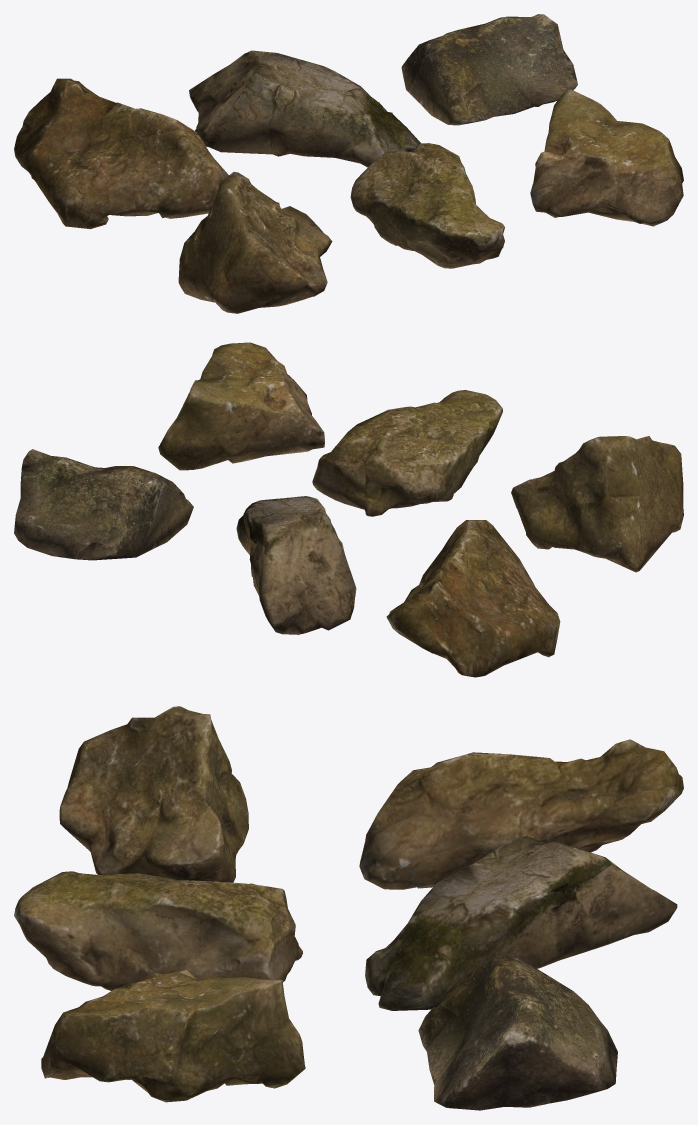
Rendered from rock_b.glb.
3 views of the same model, one above another, from view 1: azimuth 30°, elevation 25°; view 2: azimuth 150°, elevation 25°; view 3: azimuth 270°, elevation 25° (orthographic). The views are drawn at different scales.
Parts seen in each view (by area): view 1: rock_moss_set_01_rock01, rock_moss_set_01_rock02, rock_moss_set_01_rock06, rock_moss_set_01_rock04, rock_moss_set_01_rock03, rock_moss_set_01_rock05; view 2: rock_moss_set_01_rock04, rock_moss_set_01_rock01, rock_moss_set_01_rock05, rock_moss_set_01_rock03, rock_moss_set_01_rock06, rock_moss_set_01_rock02; view 3: rock_moss_set_01_rock01, rock_moss_set_01_rock02, rock_moss_set_01_rock05, rock_moss_set_01_rock04, rock_moss_set_01_rock06, rock_moss_set_01_rock03.
Boxes of the visible parts, x1,y1,x2,y2 form: rock_moss_set_01_rock01: (14,78,228,229); rock_moss_set_01_rock02: (189,50,420,167); rock_moss_set_01_rock06: (530,88,683,226); rock_moss_set_01_rock04: (178,171,332,313); rock_moss_set_01_rock03: (401,14,577,125); rock_moss_set_01_rock05: (350,143,504,268); rock_moss_set_01_rock04: (511,436,683,572); rock_moss_set_01_rock01: (386,520,560,677); rock_moss_set_01_rock05: (312,390,502,516); rock_moss_set_01_rock03: (14,449,193,560); rock_moss_set_01_rock06: (158,342,324,470); rock_moss_set_01_rock02: (236,496,356,634); rock_moss_set_01_rock01: (359,739,683,889); rock_moss_set_01_rock02: (365,836,677,1010); rock_moss_set_01_rock05: (14,871,302,990); rock_moss_set_01_rock04: (59,706,248,882); rock_moss_set_01_rock06: (41,970,305,1102); rock_moss_set_01_rock03: (418,956,617,1110).
Size of the model in its own units: 8 by 1.75 by 6.94.
Materials: 1 (1 with a texture image).
